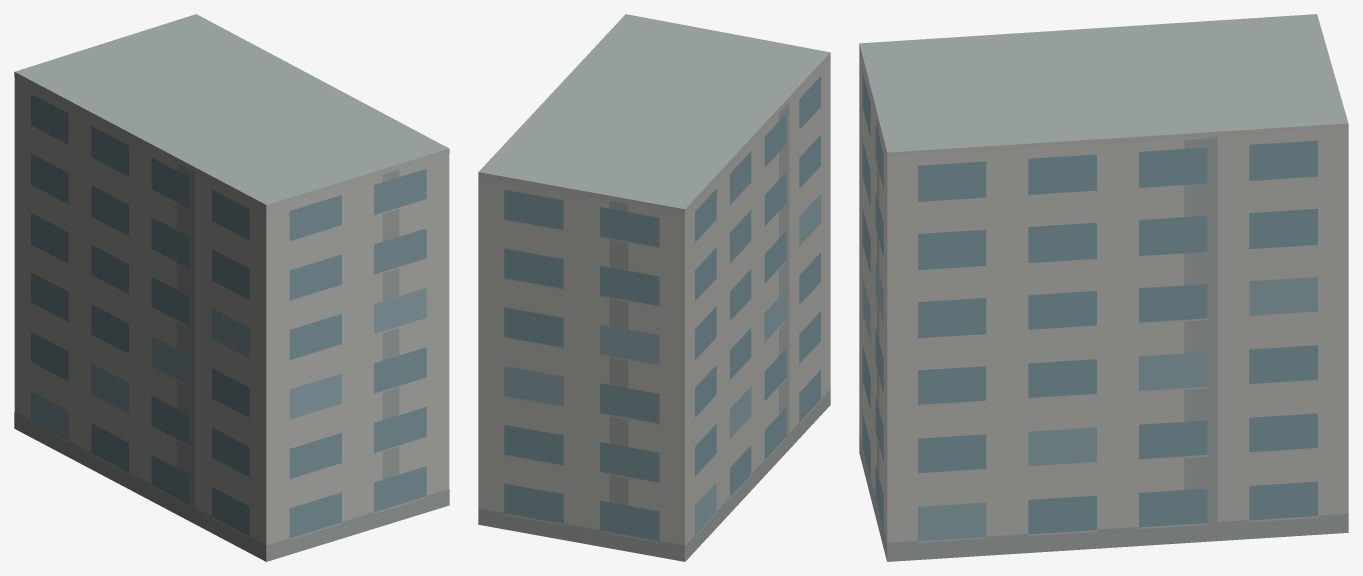
File: survey-upis-32576456.glb
3 renders of one model, left to right at view 1: azimuth 30°, elevation 25°; view 2: azimuth 150°, elevation 25°; view 3: azimuth 270°, elevation 25°, orthographic. The views are drawn at different scales.
Visible parts, largest first — view 1: survey-upis-32576456.tmp; view 2: survey-upis-32576456.tmp; view 3: survey-upis-32576456.tmp.
Boxes of the visible parts, x1,y1,x2,y2 form: survey-upis-32576456.tmp: [14, 14, 449, 561]; survey-upis-32576456.tmp: [478, 14, 830, 561]; survey-upis-32576456.tmp: [859, 14, 1348, 561].
Size of the model in its own units: 11.77 by 16.2 by 17.56.
